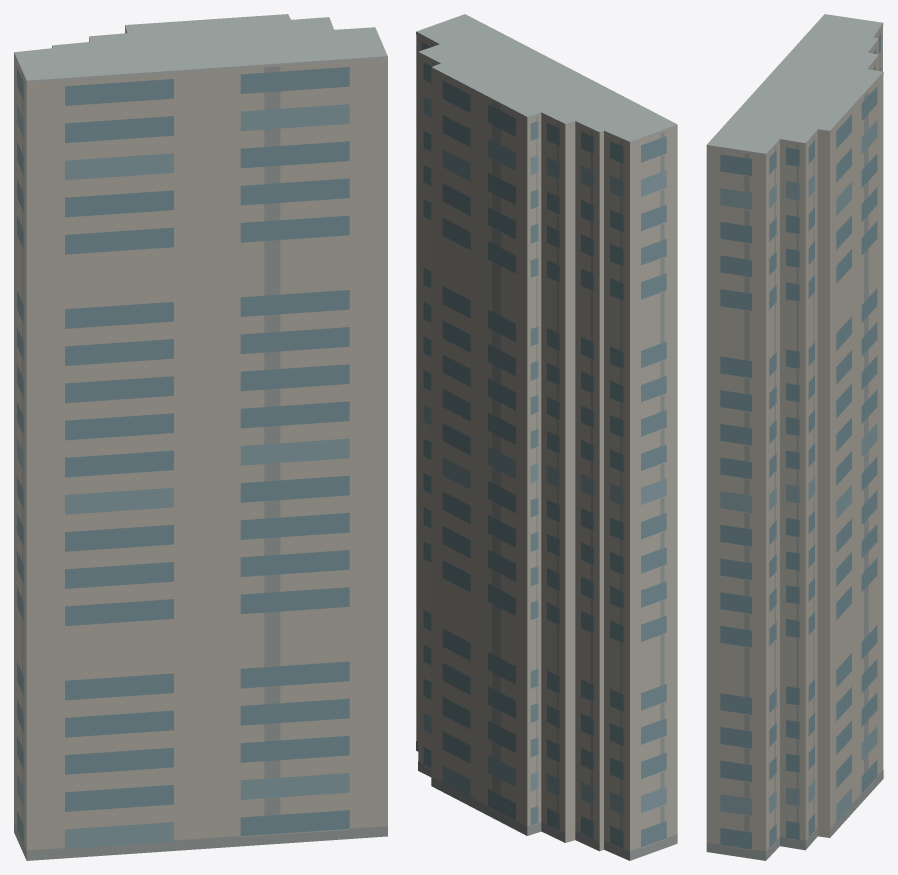
Rendered from survey-upis-32518414.glb.
The picture shows the model from 3 angles, left to right: view 1: azimuth 30°, elevation 25°; view 2: azimuth 150°, elevation 25°; view 3: azimuth 270°, elevation 25°; orthographic projection. The views are drawn at different scales.
Parts seen in each view (by area): view 1: survey-upis-32518414.tmp; view 2: survey-upis-32518414.tmp; view 3: survey-upis-32518414.tmp.
Part boxes in pixels (left/top/right/bottom): survey-upis-32518414.tmp: left=14, top=14, right=387, bottom=860; survey-upis-32518414.tmp: left=416, top=14, right=677, bottom=860; survey-upis-32518414.tmp: left=706, top=14, right=883, bottom=860.
Bounding box in the file's own units: 27.17 × 64.05 × 14.53.
